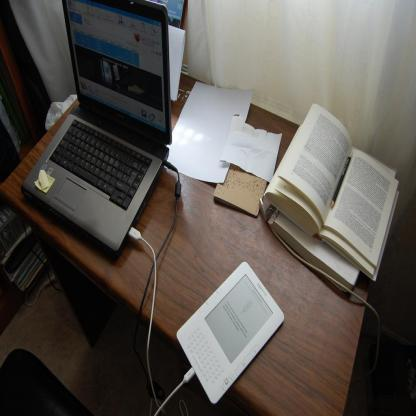board: (28, 0, 174, 258)
